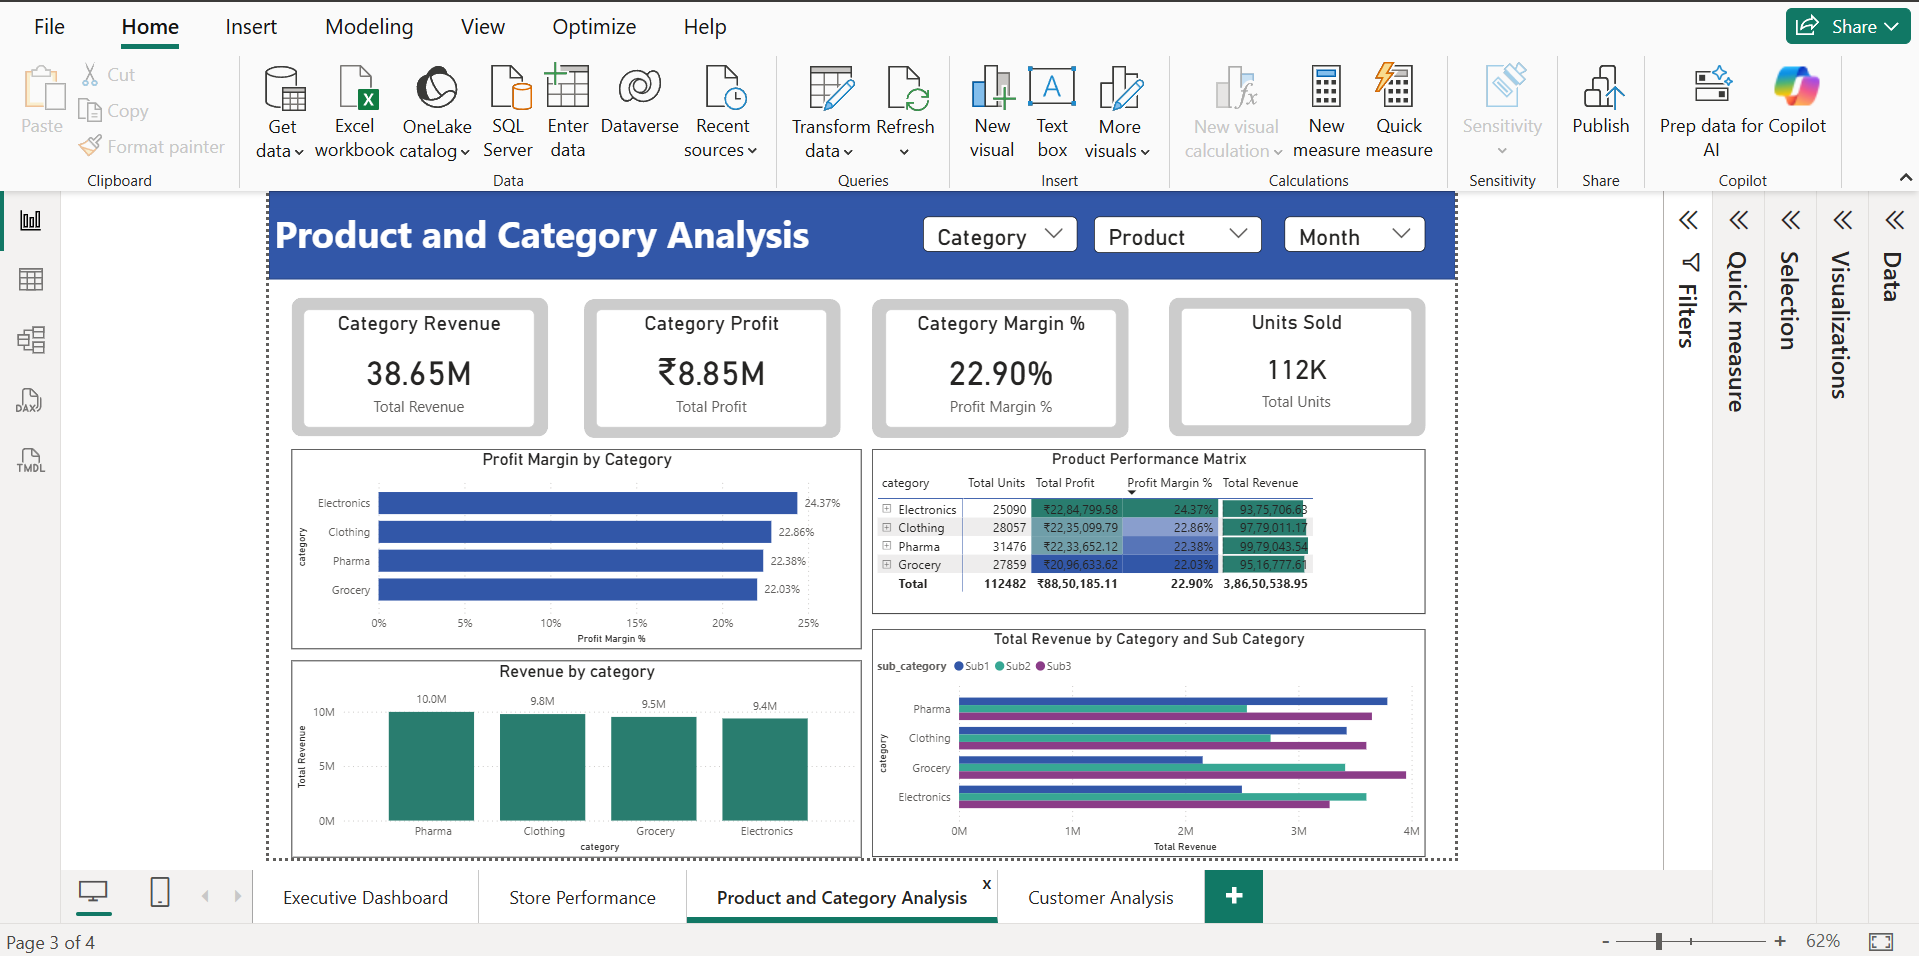

This screenshot's page, from the dashboard's own definition file:
{"tool":"powerbi","page":{"name":"Product and Category Analysis","canvas":[1280,720],"ordinal":2},"visuals":[{"type":"shape","box":[0,0,1280.8,95.5],"z":0},{"type":"textbox","title":"Product and Category Analysis","box":[0,17.8,1280.8,58.3],"z":1000},{"type":"slicer","fields":{"Values":["Date.YearMonth"]},"box":[1096.9,28,151.8,37.9],"z":2000},{"type":"slicer","fields":{"Values":["dim_products.category"]},"box":[706,28,166.6,37.9],"z":3000},{"type":"slicer","fields":{"Values":["fact_sales.product_id"]},"box":[890.7,28,181.4,39.6],"z":4000},{"type":"shape","box":[24.7,115.5,277.1,150.1],"z":5000},{"type":"shape","box":[971.5,115.5,277.1,150.1],"z":6000},{"type":"shape","box":[651.5,117.1,277.1,150.1],"z":7000},{"type":"shape","box":[339.8,117.1,277.1,150.1],"z":8000},{"type":"card","title":"Category Revenue","fields":{"Values":["fact_sales.Total Revenue"]},"box":[37.9,128.7,249.1,127],"z":9000},{"type":"card","title":"Units Sold","fields":{"Values":["fact_sales.Total Units"]},"box":[984.7,127,249.1,127],"z":10000},{"type":"card","title":"Category Margin %","fields":{"Values":["fact_sales.Profit Margin %"]},"box":[664.7,128.7,249.1,127],"z":11000},{"type":"card","title":"Category Profit","fields":{"Values":["fact_sales.Total Profit"]},"box":[353,128.7,249.1,127],"z":12000},{"type":"barChart","title":"Profit Margin by Category","fields":{"Category":["dim_products.category"],"Y":["fact_sales.Profit Margin %"]},"box":[24.7,278.8,615.3,216.1],"z":13000},{"type":"clusteredColumnChart","title":"Revenue by category","fields":{"Category":["dim_products.category"],"Y":["fact_sales.Total Revenue"]},"box":[24.7,506.4,615.3,212.8],"z":14000},{"type":"clusteredBarChart","title":"Total Revenue by Category and Sub Category","fields":{"Y":["fact_sales.Total Revenue"],"Category":["dim_products.category"],"Series":["dim_products.sub_category"]},"box":[650.9,472.8,597.5,246.1],"z":15000},{"type":"pivotTable","title":"Product Performance Matrix","fields":{"Rows":["dim_products.category","dim_products.product_id"],"Values":["fact_sales.Total Units","fact_sales.Total Profit","fact_sales.Profit Margin %","fact_sales.Total Revenue"]},"box":[650.9,278.5,597.5,178.1],"z":16000}]}

Visuals, with their boxes on the page's 1280x720 design canvas (x1, y1, x2, y2). These are canvas units, not pixel positions in the 1919x956 screenshot, which may show the page scaled, cropped or inside an application window:
shape: bbox=[0, 0, 1281, 96]
"Product and Category Analysis" textbox: bbox=[0, 18, 1281, 76]
slicer - Date.YearMonth: bbox=[1097, 28, 1249, 66]
slicer - dim_products.category: bbox=[706, 28, 873, 66]
slicer - fact_sales.product_id: bbox=[891, 28, 1072, 68]
shape: bbox=[25, 116, 302, 266]
shape: bbox=[972, 116, 1249, 266]
shape: bbox=[652, 117, 929, 267]
shape: bbox=[340, 117, 617, 267]
"Category Revenue" card: bbox=[38, 129, 287, 256]
"Units Sold" card: bbox=[985, 127, 1234, 254]
"Category Margin %" card: bbox=[665, 129, 914, 256]
"Category Profit" card: bbox=[353, 129, 602, 256]
"Profit Margin by Category" barChart: bbox=[25, 279, 640, 495]
"Revenue by category" clusteredColumnChart: bbox=[25, 506, 640, 719]
"Total Revenue by Category and Sub Category" clusteredBarChart: bbox=[651, 473, 1248, 719]
"Product Performance Matrix" pivotTable: bbox=[651, 278, 1248, 457]
